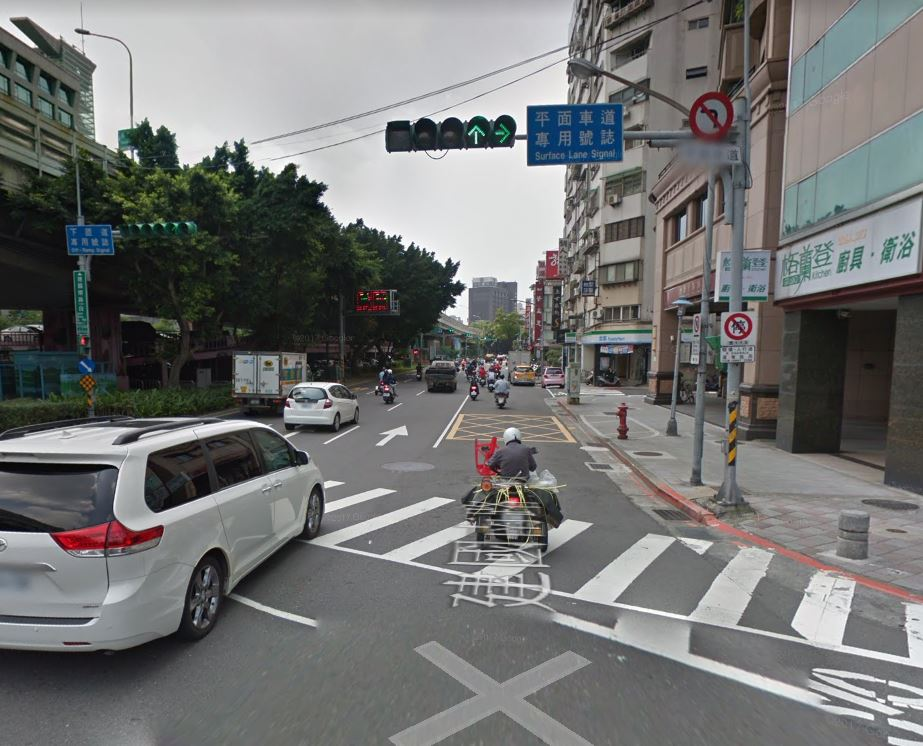No_left_turn: (690, 92, 734, 139)
Traffic_light_green: (412, 114, 516, 145)
